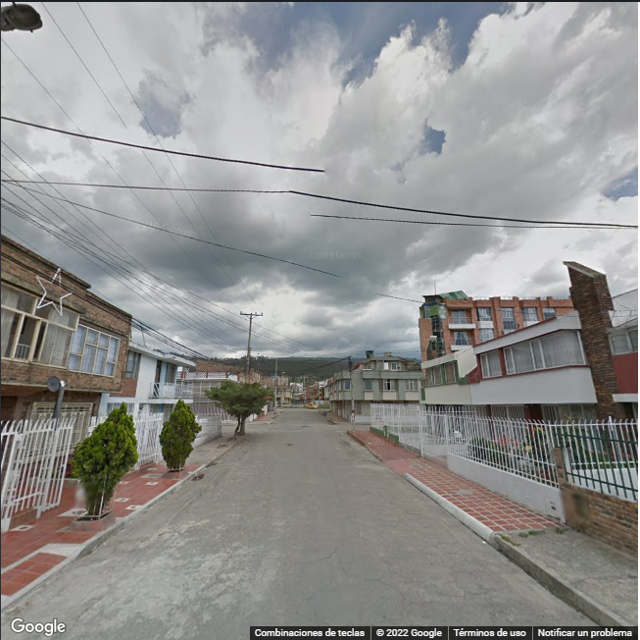D00: (356, 524, 396, 577), (375, 577, 410, 610)
D10: (285, 547, 344, 565)
